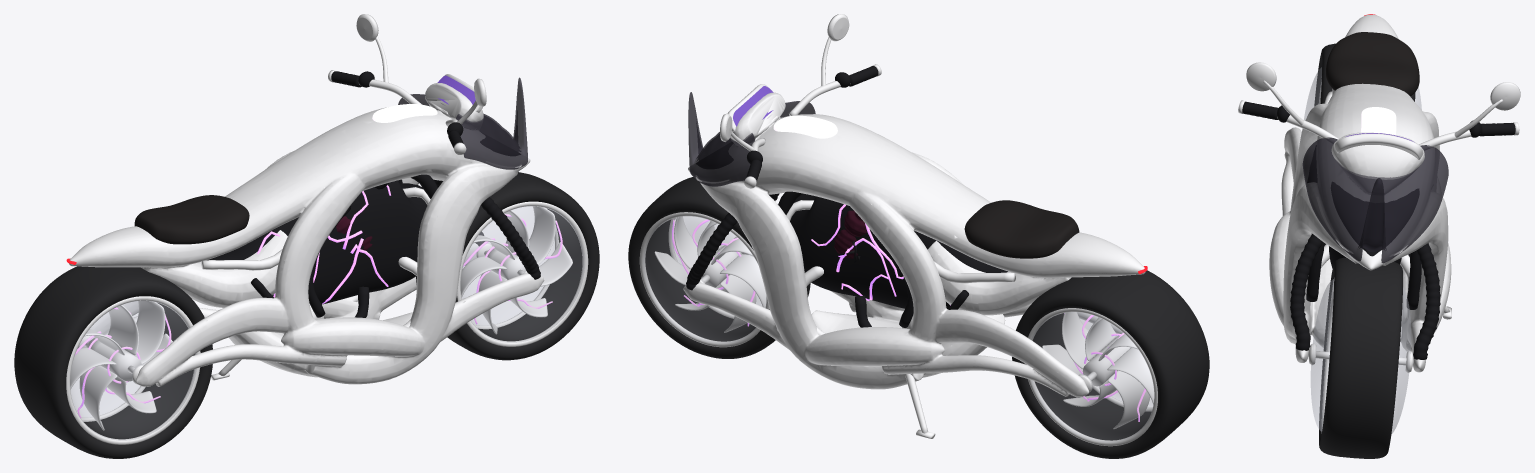
The model's file is bike2.glb.
3 views of the same model, side by side, from view 1: azimuth 30°, elevation 25°; view 2: azimuth 150°, elevation 25°; view 3: azimuth 270°, elevation 25° (orthographic). The views are drawn at different scales.
Parts seen in each view (by area): view 1: Bike2, Wheel2Rear, Wheel2Front, Bike2Button; view 2: Bike2, Wheel2Rear, Wheel2Front, Bike2Button; view 3: Bike2, Wheel2Front, Wheel2Rear, Bike2Button.
Part boxes in pixels (bbox=[...]): Bike2: bbox=[66, 14, 544, 386]; Wheel2Rear: bbox=[14, 266, 212, 458]; Wheel2Front: bbox=[416, 172, 599, 360]; Bike2Button: bbox=[372, 104, 437, 122]; Bike2: bbox=[683, 14, 1147, 438]; Wheel2Rear: bbox=[1012, 270, 1209, 458]; Wheel2Front: bbox=[628, 177, 810, 358]; Bike2Button: bbox=[773, 115, 837, 138]; Bike2: bbox=[1238, 14, 1520, 372]; Wheel2Front: bbox=[1308, 257, 1413, 458]; Wheel2Rear: bbox=[1304, 43, 1421, 119]; Bike2Button: bbox=[1361, 107, 1396, 134].
Size of the model in its own units: 2.21 by 1.22 by 0.8978.
